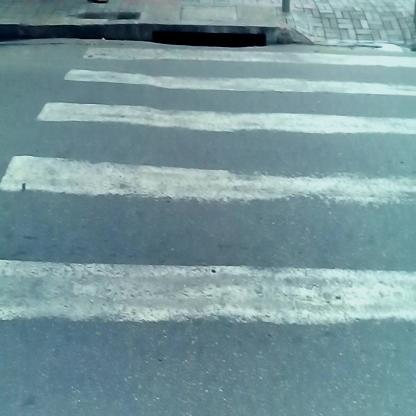crosswalk: (4, 49, 410, 394)
sidewalk: (2, 6, 397, 64)
